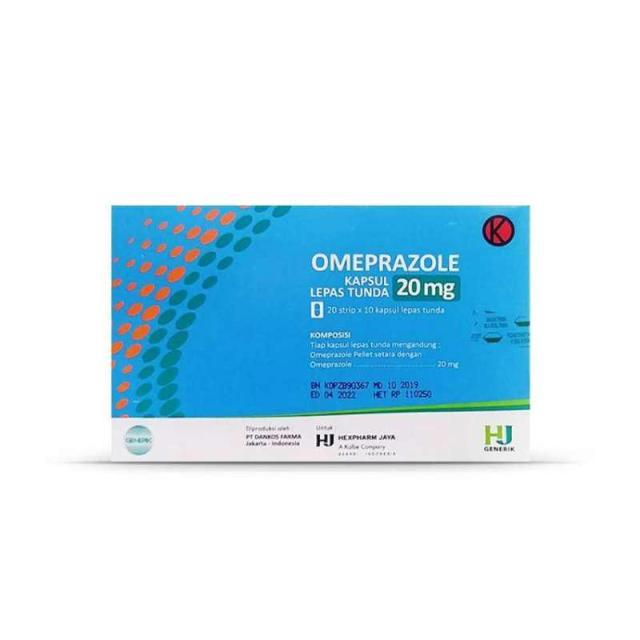drug-name: (308, 246, 466, 277)
